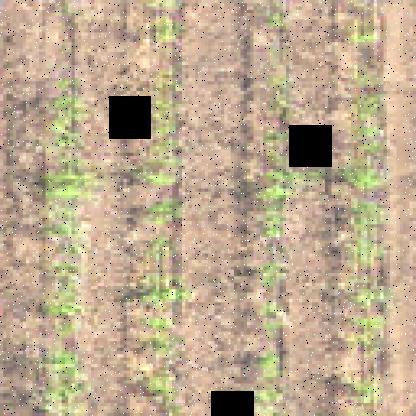sorghum_plant: (247, 0, 298, 416), (341, 2, 384, 416), (139, 2, 181, 416), (40, 74, 88, 416)
